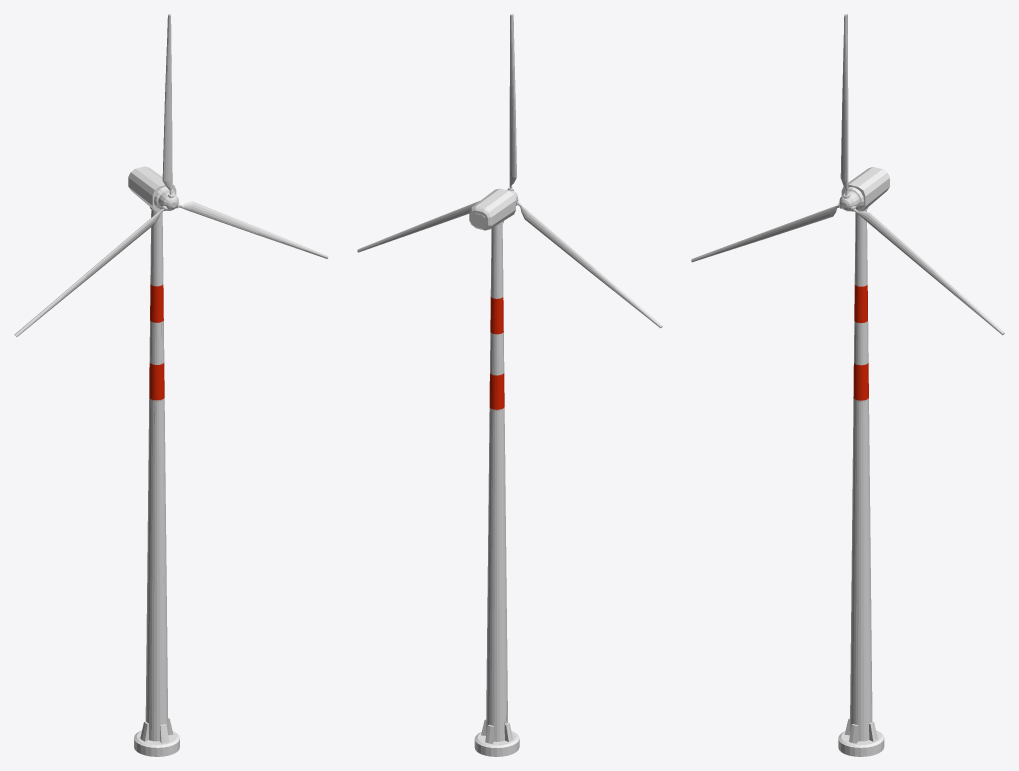
The picture shows the model from 3 angles, left to right: view 1: azimuth 30°, elevation 25°; view 2: azimuth 150°, elevation 25°; view 3: azimuth 330°, elevation 25°; orthographic projection. The views are drawn at different scales.
Visible parts, largest first — view 1: Cylinder, Cylinder.001; view 2: Cylinder, Cylinder.001; view 3: Cylinder, Cylinder.001.
Part boxes in pixels (x1,y1,x2,y2): Cylinder: [128, 166, 179, 756]; Cylinder.001: [14, 14, 328, 336]; Cylinder: [469, 188, 519, 756]; Cylinder.001: [357, 14, 662, 328]; Cylinder: [838, 167, 889, 756]; Cylinder.001: [691, 14, 1004, 335].
Bounding box in the file's own units: 47.32 × 107 × 9.38.
1 material, 1 textured.
